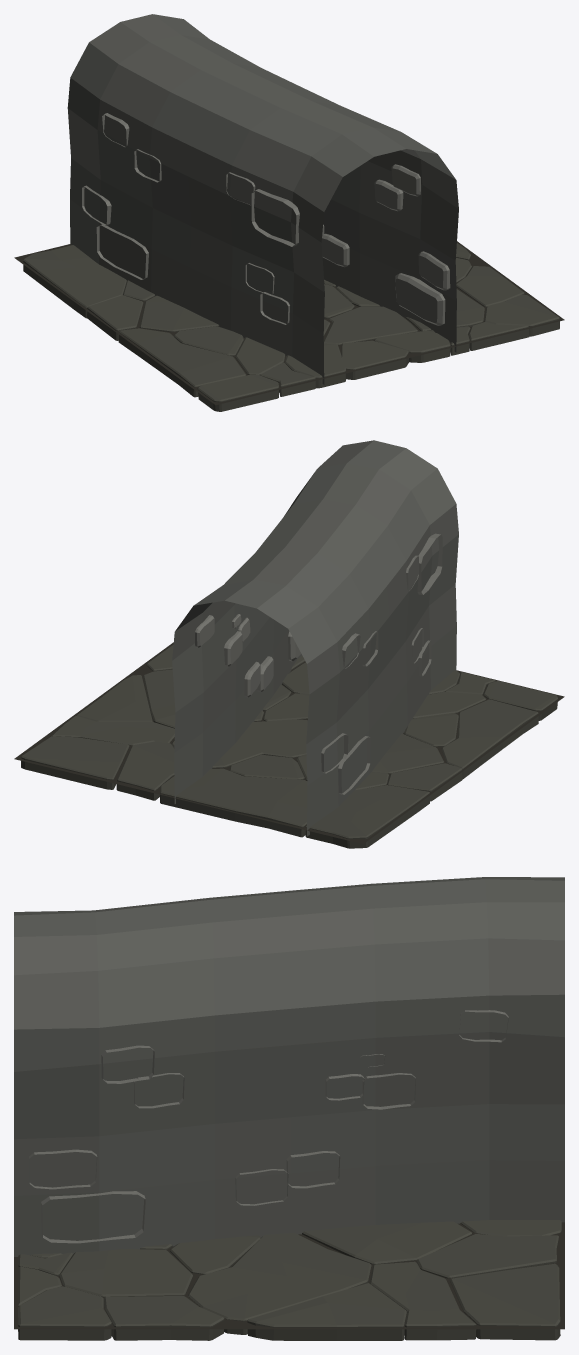
Rendered from Hallway_toStaircase_Bottom.glb.
3 renders of one model, top to bottom at view 1: azimuth 30°, elevation 25°; view 2: azimuth 150°, elevation 25°; view 3: azimuth 270°, elevation 25°, orthographic. The views are drawn at different scales.
Parts seen in each view (by area): view 1: Hallway_toStaircase_Bottom.001; view 2: Hallway_toStaircase_Bottom.001; view 3: Hallway_toStaircase_Bottom.001.
Boxes of the visible parts, x1=… form: Hallway_toStaircase_Bottom.001: x1=14, y1=14, x2=564, y2=411; Hallway_toStaircase_Bottom.001: x1=14, y1=440, x2=564, y2=848; Hallway_toStaircase_Bottom.001: x1=14, y1=877, x2=564, y2=1340.
Bounding box in the file's own units: 4 × 2.42 × 4.
2 materials, 2 textured.
